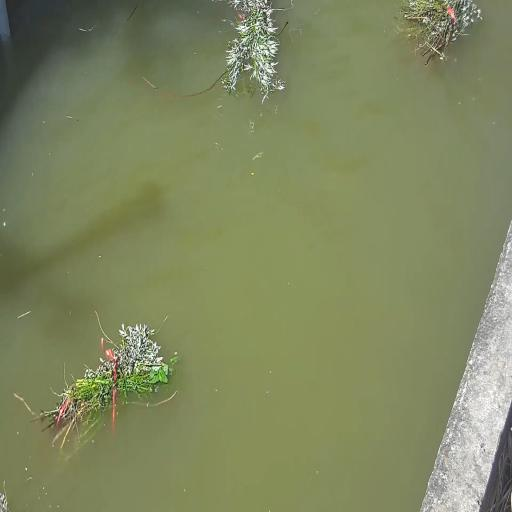twig: (26, 313, 180, 449), (141, 3, 288, 100), (396, 0, 481, 69)
